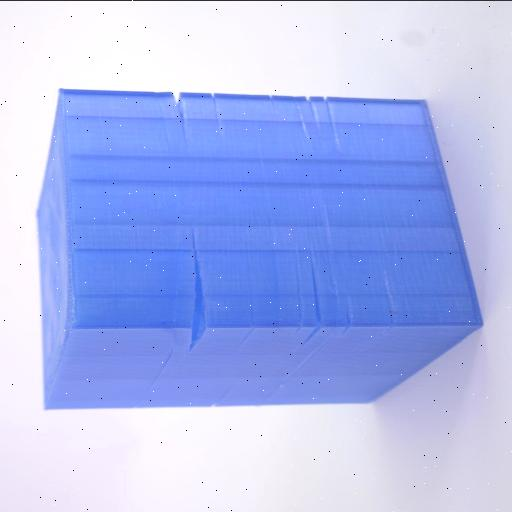cracks: (180, 235, 216, 357), (292, 258, 328, 344), (304, 86, 348, 154), (161, 86, 201, 146)
